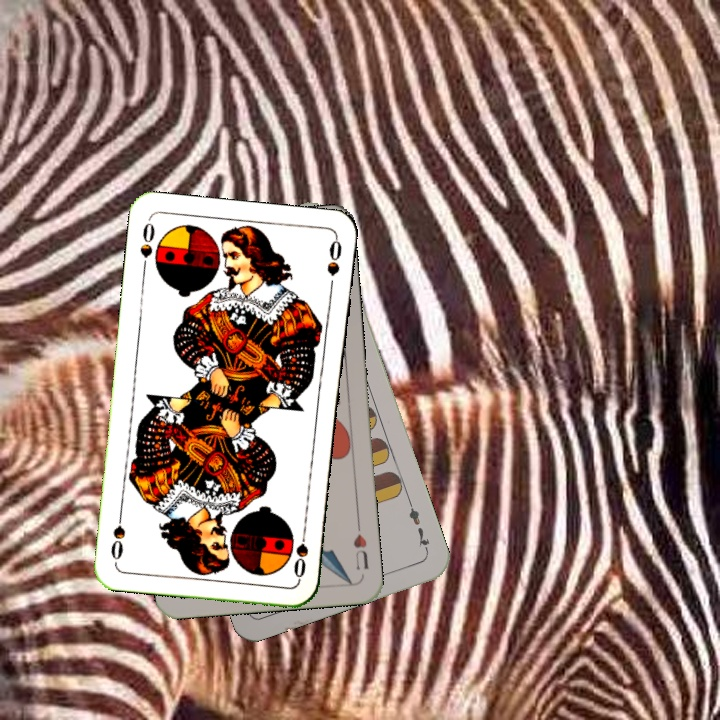E7: (404, 498, 432, 555)
HU: (349, 519, 371, 573)
SO: (289, 523, 311, 582), (136, 216, 158, 275)
